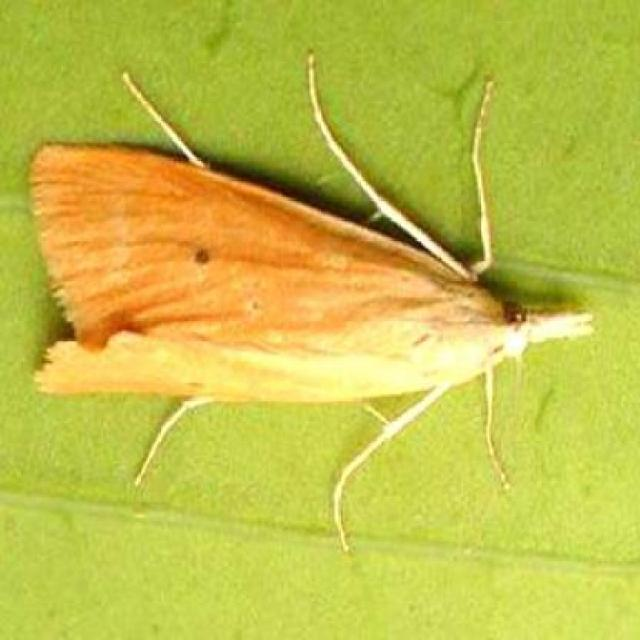stem-borer: (28, 131, 600, 463)
